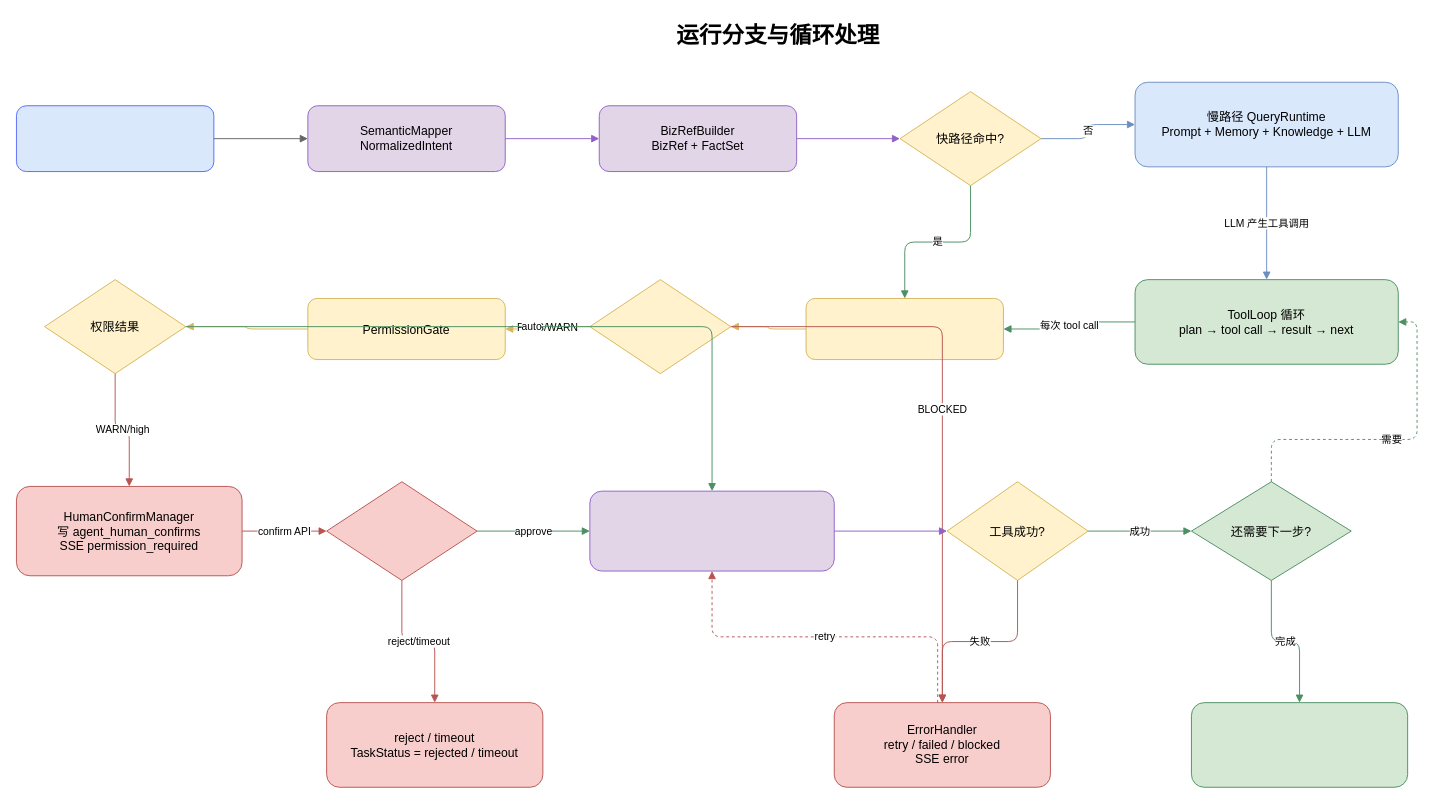
This 1441x804 diagram has some shape labels left out. Each missing label, with the centre of its shape:
"POST /messages 创建 task + traceId" belongs at point (115, 138).
"response_sent TaskStatus = succeeded SSE done" belongs at point (1299, 744).
"RuleEngine.check" belongs at point (904, 329).
"Tool Execute BizTool / CommonTool / MCP / Workflow" belongs at point (711, 530).
"人工确认结果" belongs at point (401, 530).
"规则结果" belongs at point (660, 326).
